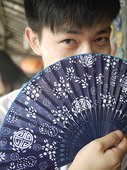face: (44, 1, 118, 114)
